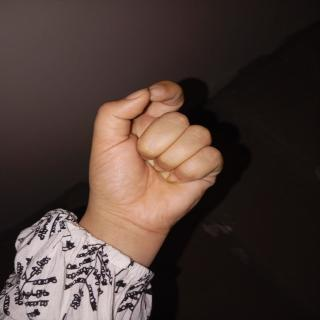FAA: (68, 70, 236, 238)
